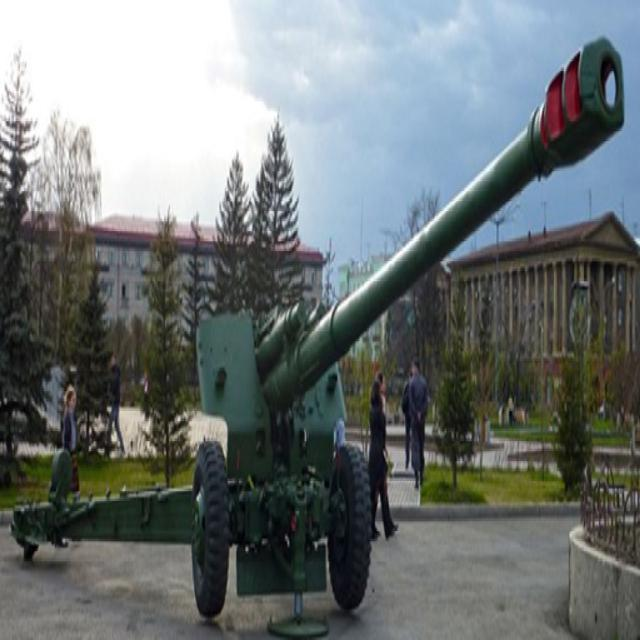ART: (9, 37, 624, 629)
